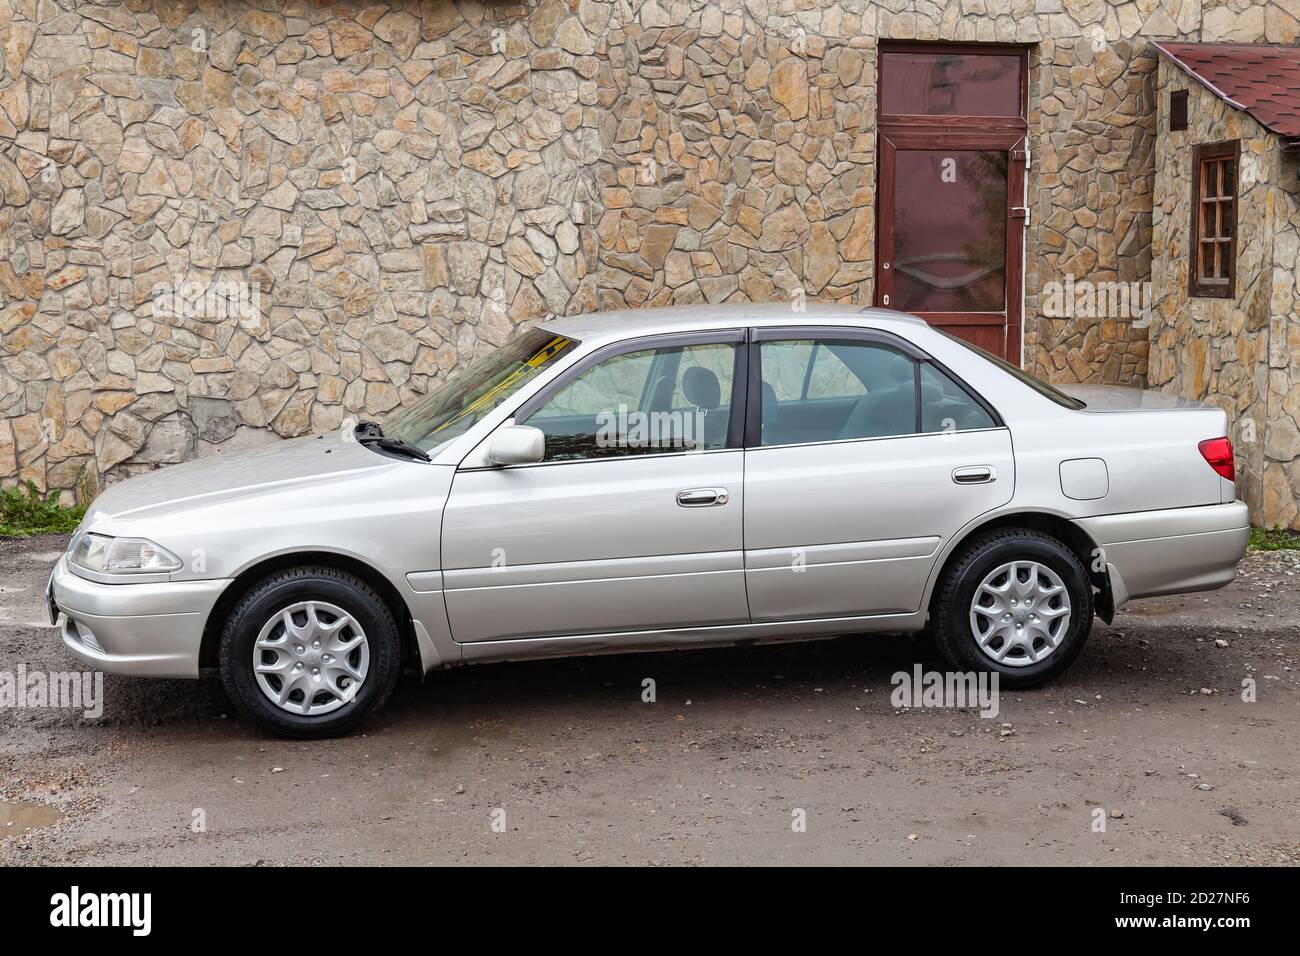car: (42, 295, 1255, 744)
